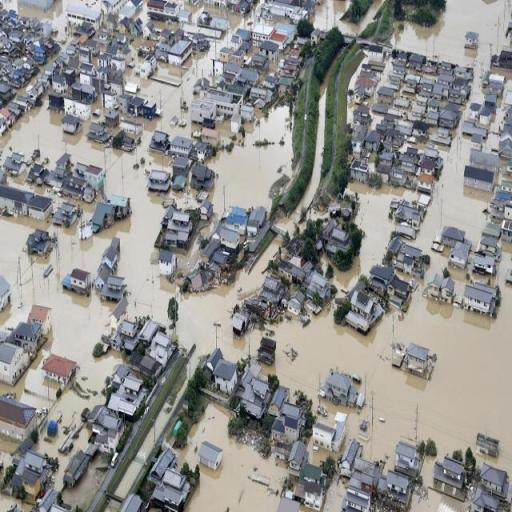house: (267, 398, 306, 455), (146, 468, 196, 510), (345, 285, 383, 334), (293, 458, 328, 510), (320, 367, 362, 410), (97, 231, 124, 296), (238, 366, 268, 424), (0, 394, 39, 438), (376, 466, 414, 511), (14, 449, 50, 496), (1, 328, 34, 379), (65, 156, 103, 200), (202, 344, 236, 392), (461, 148, 498, 190), (113, 372, 149, 414), (162, 208, 194, 254), (311, 411, 346, 453), (434, 452, 468, 495), (338, 0, 385, 30), (211, 230, 242, 272), (0, 341, 27, 387), (462, 285, 498, 319), (12, 318, 45, 355), (402, 340, 431, 382), (44, 353, 74, 390), (162, 36, 196, 68), (208, 86, 244, 116), (123, 92, 160, 121), (306, 268, 332, 308), (61, 450, 88, 488), (67, 2, 101, 32), (147, 330, 175, 366), (218, 212, 244, 250), (0, 184, 30, 216), (207, 244, 236, 277), (88, 404, 122, 432), (338, 437, 362, 476), (198, 438, 224, 474), (428, 273, 456, 306), (394, 437, 418, 475), (26, 228, 54, 260), (63, 266, 92, 296), (146, 163, 172, 196), (480, 464, 506, 497), (415, 152, 443, 182), (114, 121, 141, 151), (54, 199, 80, 230), (0, 267, 16, 317), (17, 82, 44, 111), (256, 331, 277, 367), (396, 198, 423, 226), (437, 224, 468, 248), (70, 77, 96, 105), (230, 302, 251, 336), (245, 204, 269, 233), (28, 193, 52, 222), (190, 98, 216, 124), (436, 102, 460, 130), (110, 192, 134, 220), (190, 162, 214, 190), (156, 247, 176, 279), (497, 200, 512, 241), (253, 21, 274, 50), (62, 110, 84, 137), (147, 0, 179, 18), (327, 220, 349, 246), (353, 77, 375, 103), (279, 262, 304, 284), (196, 190, 214, 220), (3, 154, 27, 176), (96, 430, 120, 452), (170, 136, 194, 157), (474, 253, 494, 278), (480, 234, 502, 256), (88, 120, 108, 144), (150, 130, 170, 153), (0, 105, 14, 136), (4, 101, 22, 125), (350, 160, 369, 182), (406, 54, 428, 72), (47, 90, 64, 113), (7, 98, 27, 116), (121, 319, 139, 339), (249, 86, 268, 104), (354, 124, 365, 154), (377, 86, 395, 104), (102, 88, 118, 108), (367, 131, 381, 153), (432, 83, 450, 100), (172, 157, 189, 174), (232, 49, 247, 65), (110, 334, 123, 352), (80, 62, 96, 76), (466, 31, 479, 48), (480, 107, 492, 125), (498, 179, 512, 194), (356, 105, 370, 120), (98, 52, 111, 68), (488, 74, 506, 85), (416, 93, 430, 107), (86, 39, 100, 53), (218, 46, 230, 62), (230, 34, 244, 47), (439, 74, 454, 86), (264, 74, 276, 88), (454, 66, 468, 78), (288, 48, 302, 60), (470, 102, 480, 118)
